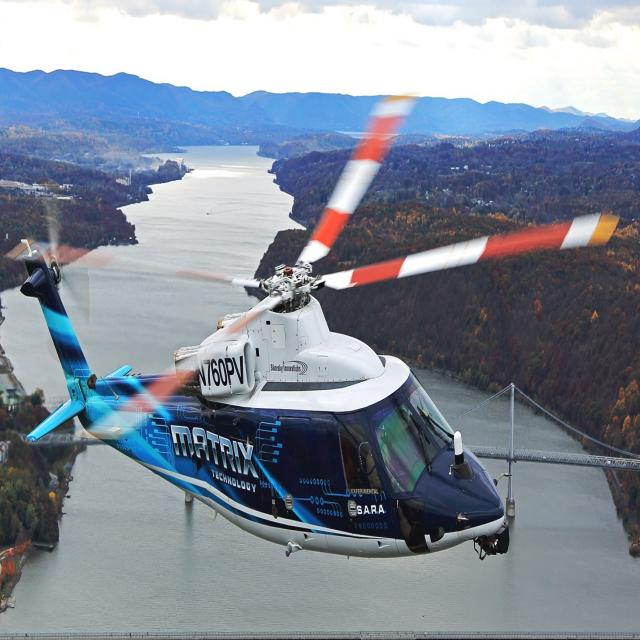helicopter: (3, 96, 622, 559)
